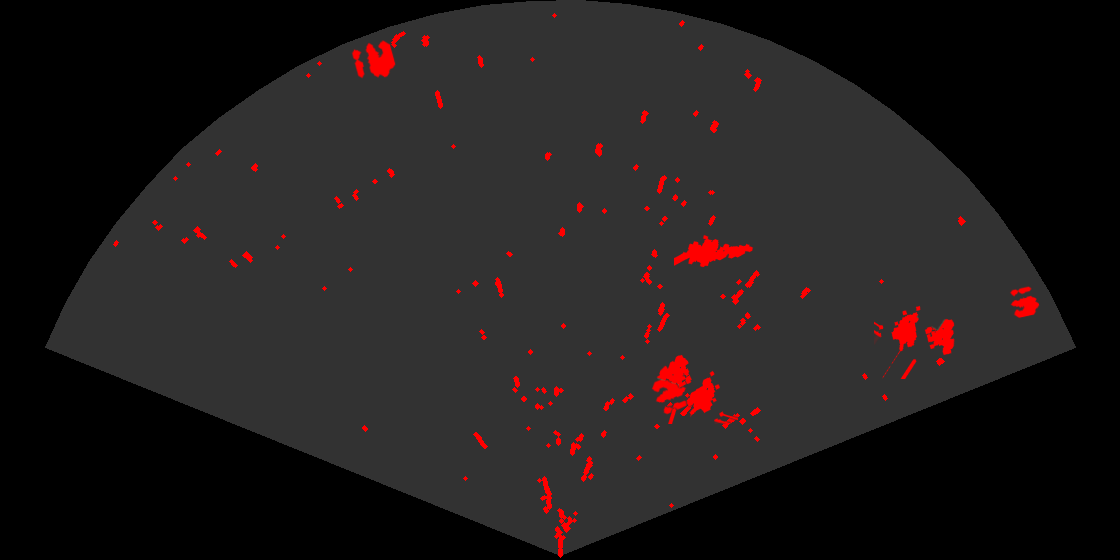ball: (350, 39, 397, 80), (650, 373, 690, 416), (1008, 285, 1041, 320)
cage: (874, 304, 956, 379), (656, 353, 738, 424)
frogman: (674, 233, 754, 269)
